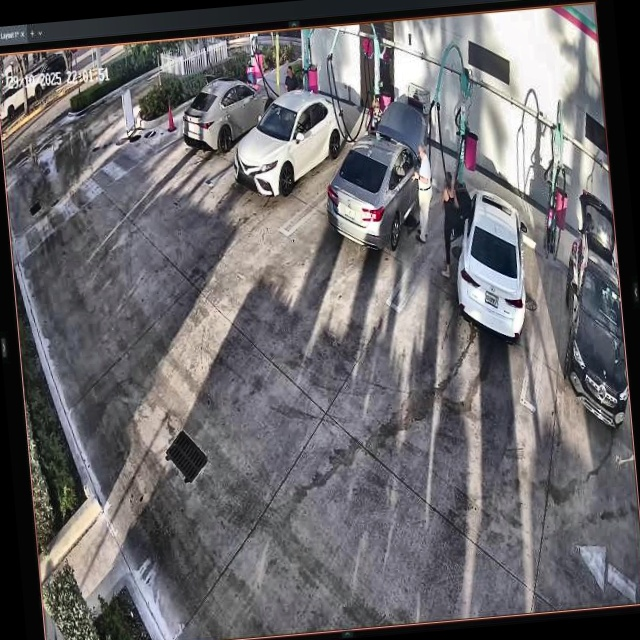Car: (321, 103, 432, 257), (230, 88, 350, 202), (449, 187, 534, 346), (179, 73, 281, 154)
